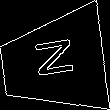N_W: (29, 40, 77, 86)
